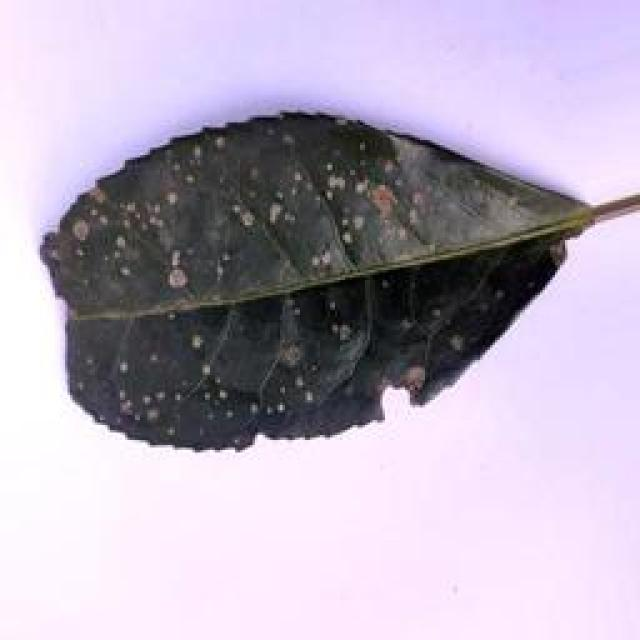Algal Leaf Spot: (35, 105, 640, 463)
